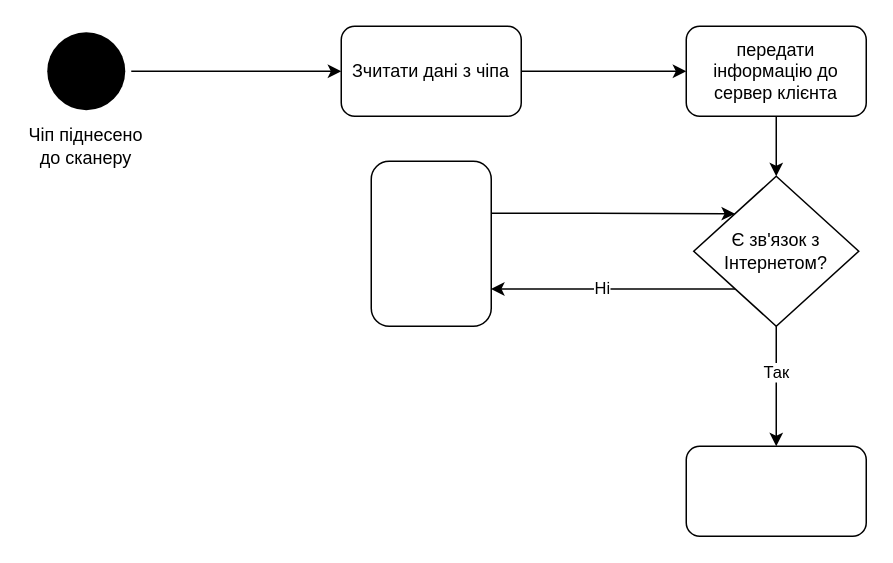
This 893x563 diagram has some shape labels left out. Here are the shapes that lost their labels. From the top down, the centre of each, then its label:
At point 430,243: "Почекати 5 секунд".
At point 775,490: "Відправити інформацію на сервер".
